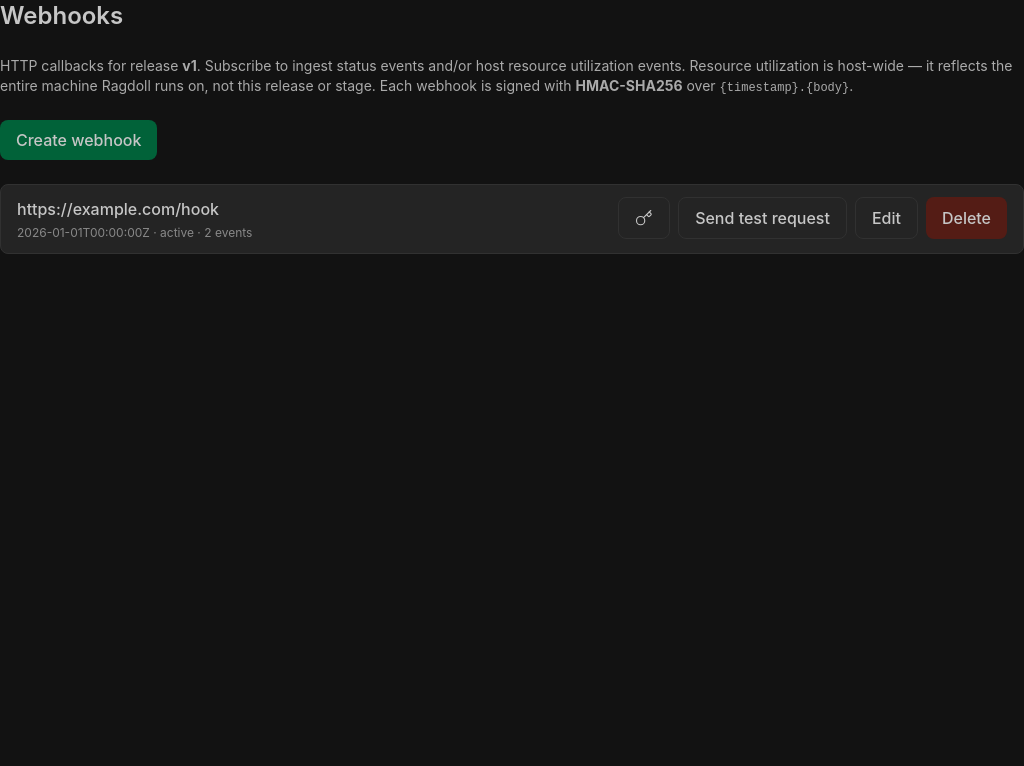
it: WebhooksPage › opens create form and requires at least one event
Check: the text "https://example.com/hook" is shown, box [17,199,219,219]
Click the button "Create webhook" at (79,140), box [0,120,157,160]
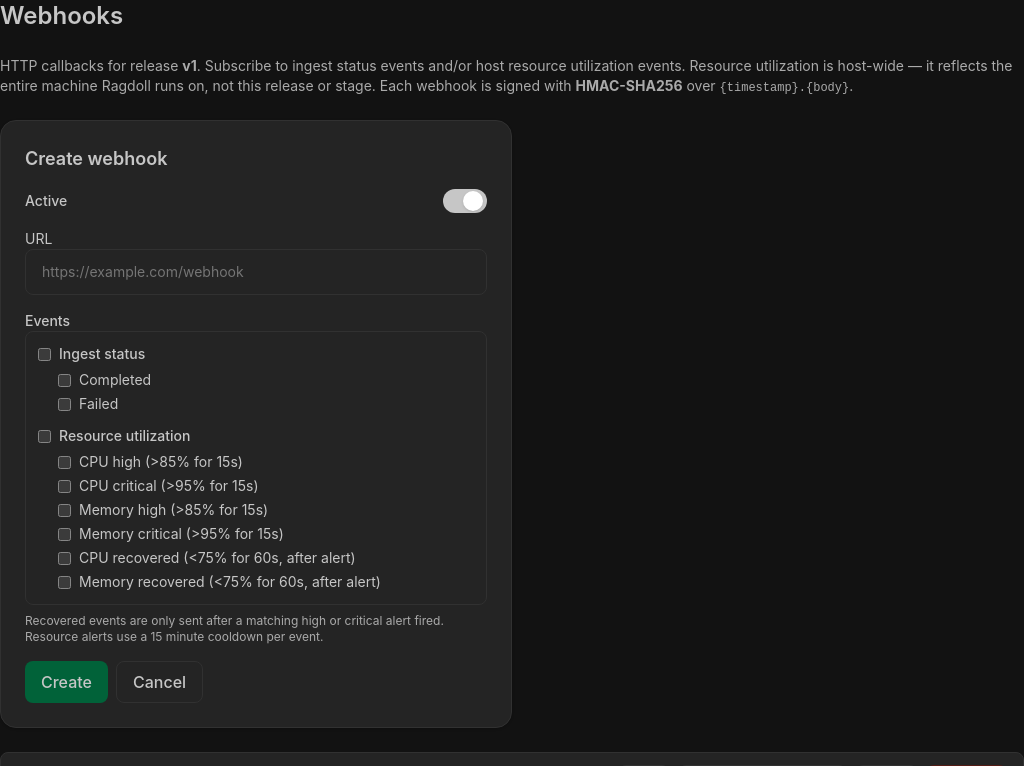
Check: the field with placeholder "https://example.com/webhook" is shown, box [25,249,487,295]
Check: the button "Create" is disabled, box [25,661,108,703]
